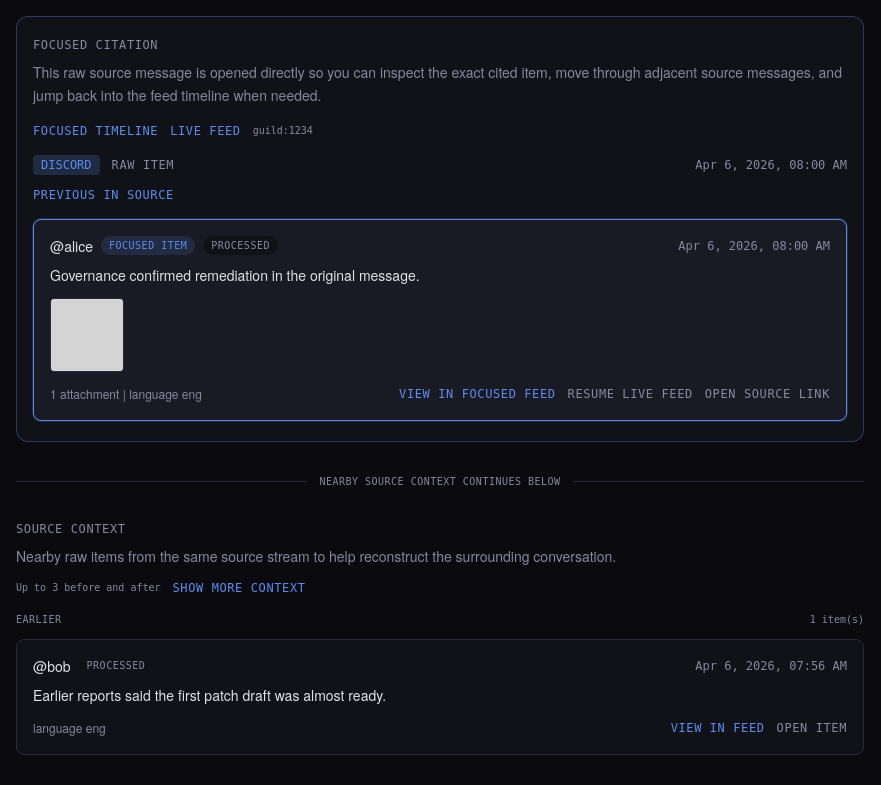
Test: ItemView › keeps the focused raw item visible when expanding source context fails and retries in place
The width and height of the screenshot is (881, 785).
Expected: the text "Governance confirmed remediation in the original message." is shown, [50, 264, 420, 284]
Click the button "Show more context". click: (239, 588)
box: [172, 580, 306, 596]
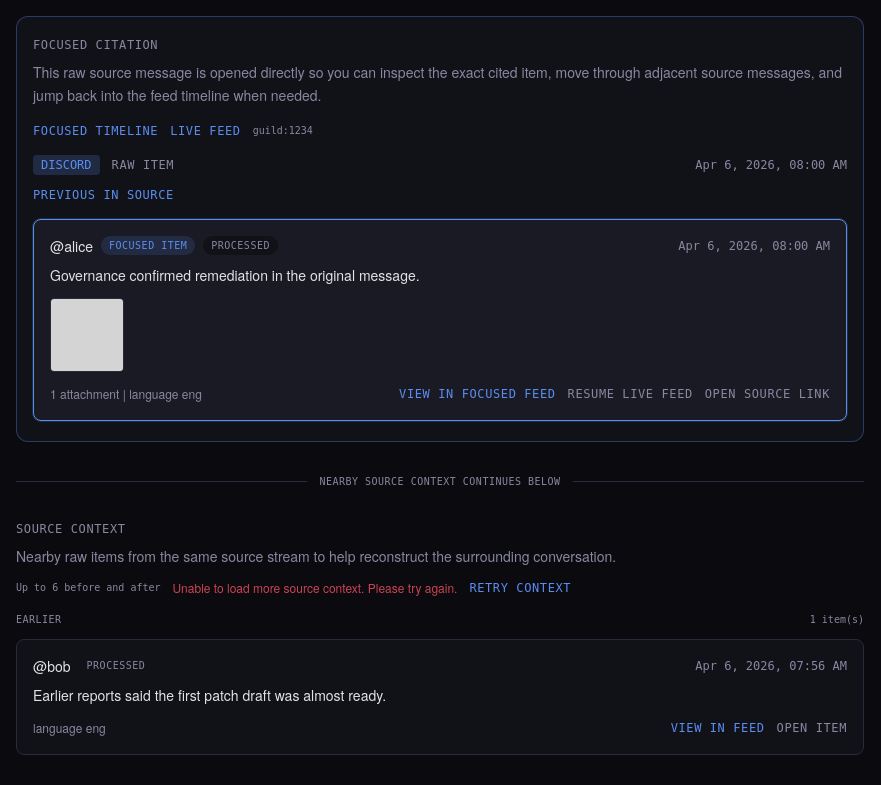
Expected: the text "Governance confirmed remediation in the original message." is shown, [50, 264, 420, 284]
Now the text "Unable to load more source context. Please try again." is shown, box [172, 580, 457, 596]
Click the button "Retry context". click: (520, 588)
box: [469, 580, 571, 596]
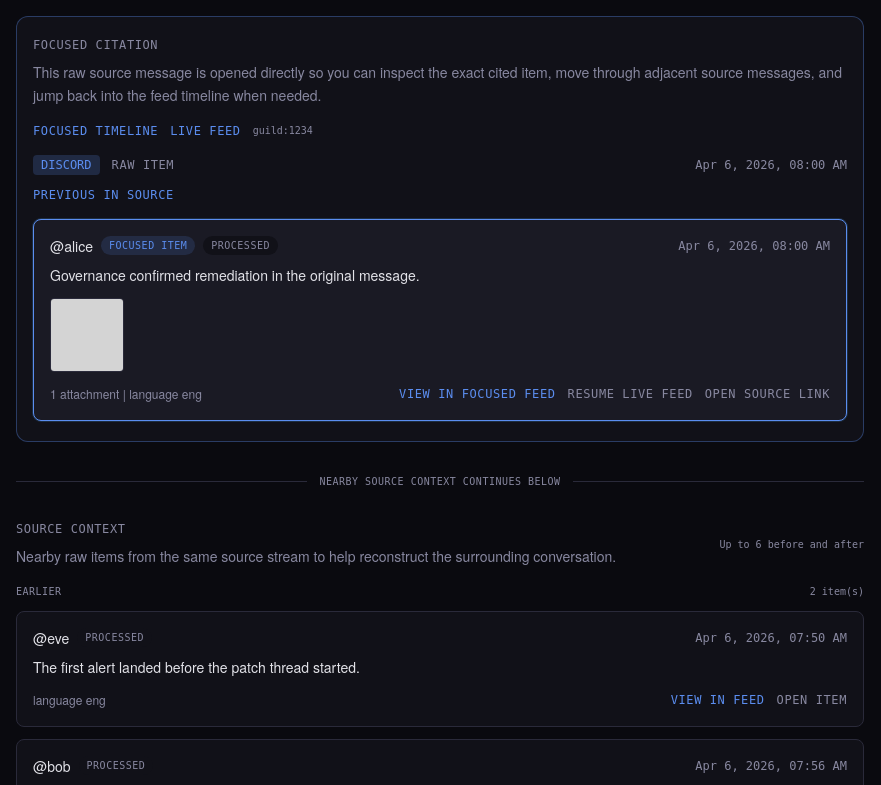
Now the text "The first alert landed before the patch thread started." is shown, box [33, 656, 360, 676]
Now the text "Unable to load more source context. Please try again." is gone
